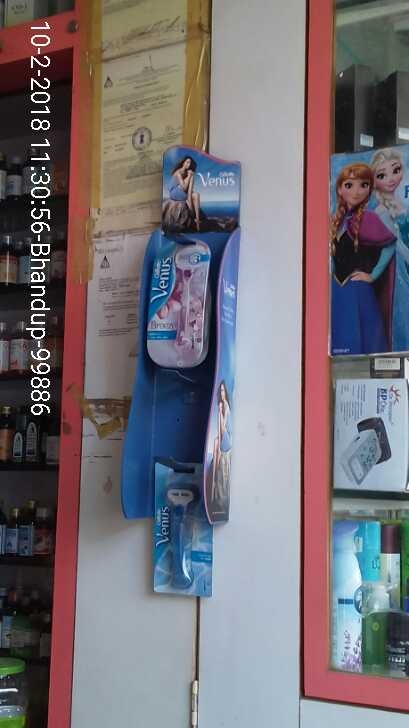beauty: (152, 459, 216, 597), (148, 234, 209, 370)
